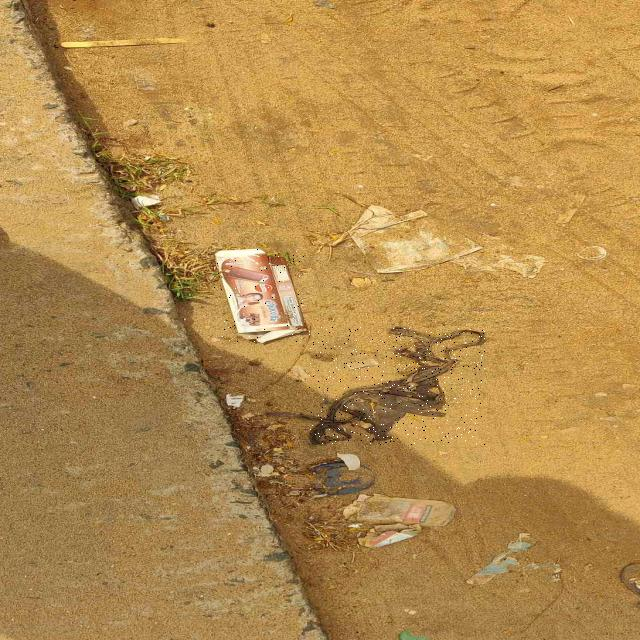biowaste: (308, 327, 485, 445)
paper: (215, 249, 305, 343)
